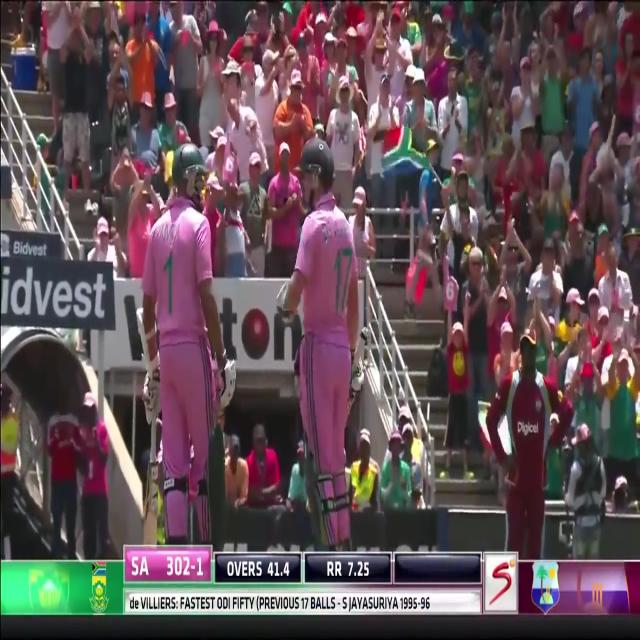Ball: (141, 143, 237, 554), (289, 139, 363, 553)
